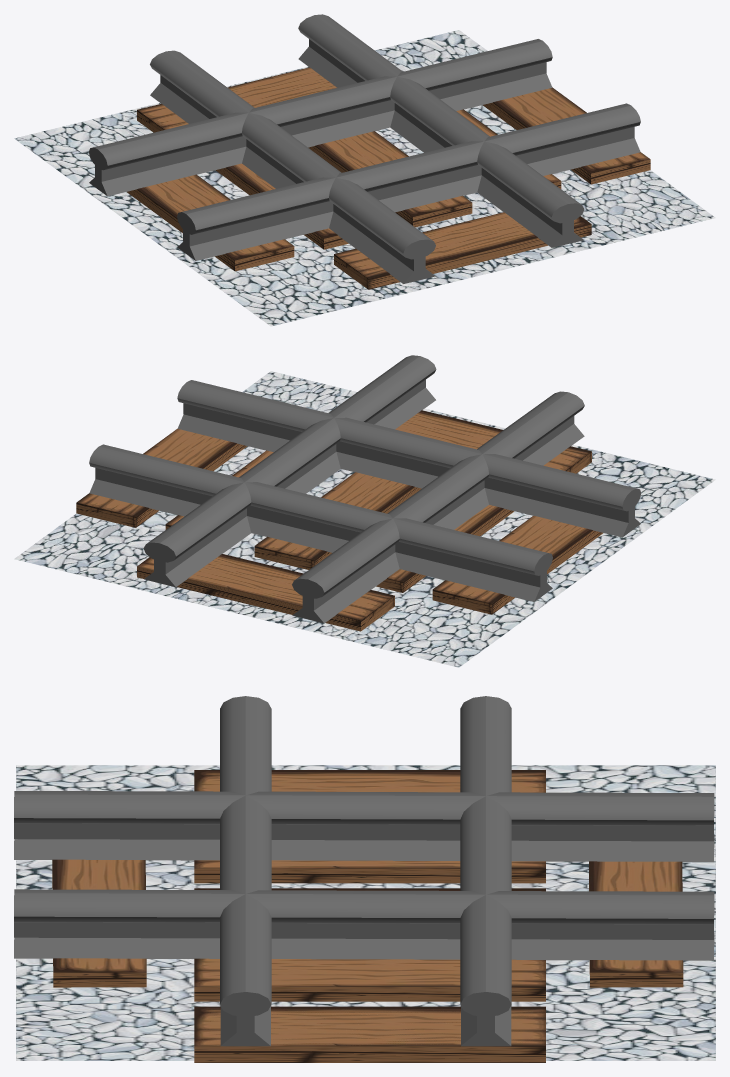
Rendered from IntersectionQuadrupleEnCroix.fbx.
3 views of the same model, one above another, from view 1: azimuth 30°, elevation 25°; view 2: azimuth 150°, elevation 25°; view 3: azimuth 270°, elevation 25° (orthographic). The views are drawn at different scales.
Visible parts, largest first — view 1: Plane, rail.001, rail, rail.003, rail.002, planche.002, planche.009, planche.001, planche.003, planche, planche.006, planche.008; view 2: Plane, rail.001, rail, rail.003, rail.002, planche.003, planche.009, planche.001, planche.002, planche, planche.006, planche.008; view 3: Plane, rail.003, rail.002, rail, rail.001, planche, planche.005, planche.006, planche.008, planche.002, planche.009, planche.003 (+1 smaller).
Boxes of the visible parts, x1,y1,x2,y2 form: Plane: (14, 30, 715, 326); rail.001: (89, 39, 552, 196); rail: (177, 103, 640, 260); rail.003: (298, 14, 584, 247); rail.002: (150, 50, 435, 283); planche.002: (334, 212, 591, 289); planche.009: (127, 174, 294, 271); planche.001: (308, 131, 472, 227); planche.003: (137, 67, 336, 132); planche: (494, 87, 650, 173); planche.006: (482, 88, 650, 184); planche.008: (215, 163, 348, 249); Plane: (14, 371, 715, 667); rail.001: (89, 444, 552, 601); rail: (177, 380, 641, 537); rail.003: (143, 355, 436, 587); rail.002: (292, 391, 584, 623); planche.003: (137, 554, 394, 631); planche.009: (432, 515, 603, 614); planche.001: (254, 472, 421, 569); planche.002: (395, 410, 591, 473); planche: (76, 428, 236, 527); planche.006: (77, 429, 247, 527); planche.008: (376, 505, 514, 592); Plane: (16, 765, 715, 1060); rail.003: (14, 889, 714, 960); rail.002: (14, 791, 714, 862); rail: (220, 696, 271, 1046); rail.001: (460, 696, 511, 1046); planche: (194, 1007, 545, 1062); planche.005: (194, 958, 545, 1001); planche.006: (194, 1006, 545, 1046); planche.008: (194, 860, 545, 883); planche.002: (52, 859, 146, 987); planche.009: (194, 770, 545, 792); planche.003: (589, 861, 683, 987).
Bounding box in the file's own units: 3001 × 336 × 3009.
